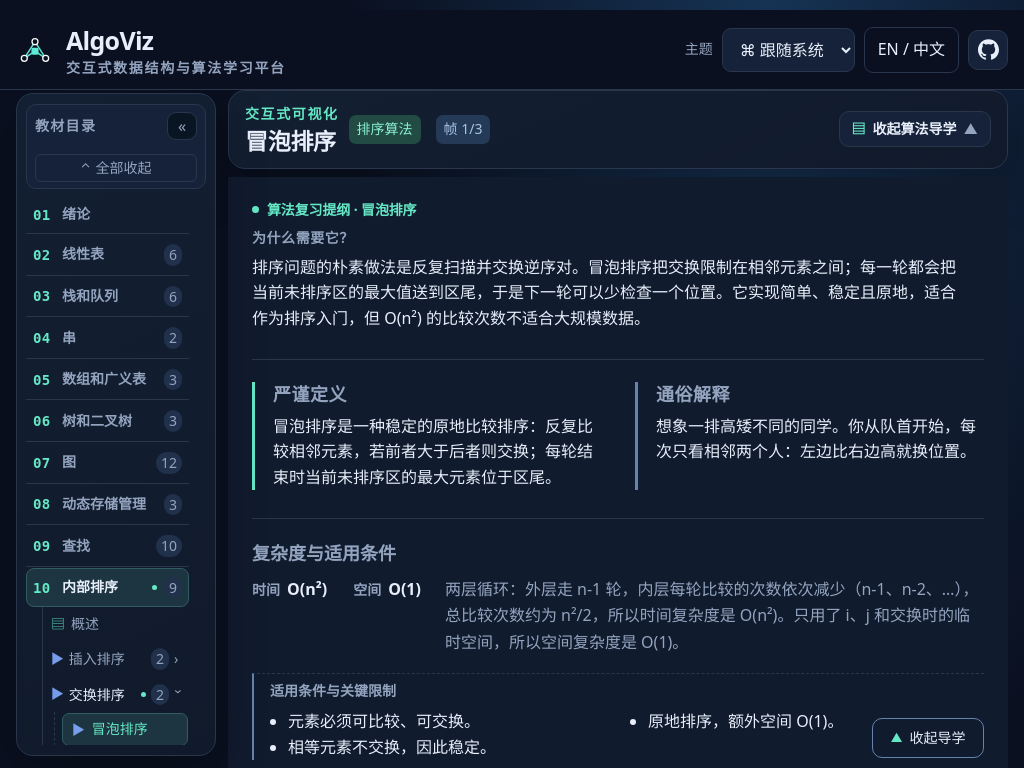
CORE-REFINE-01 shell integration › uses one state-aware control to collapse or expand the whole textbook directory
This screenshot has width=1024, height=768.
Click the button with test id "sidebar-toggle-all" at (116, 168), box 35,154 -> 197,182
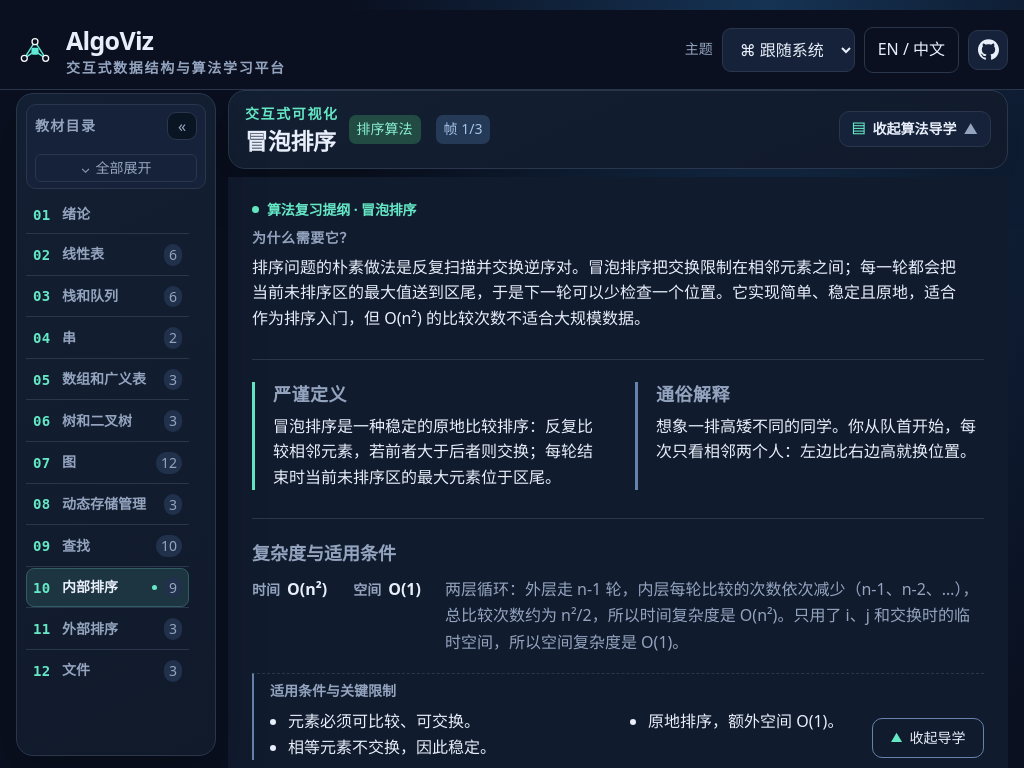
Expected: the button with test id "sidebar-toggle-all" shows "全部展开"
Click the button with test id "sidebar-toggle-all" at (116, 168), box 35,154 -> 197,182
(page scrolled)
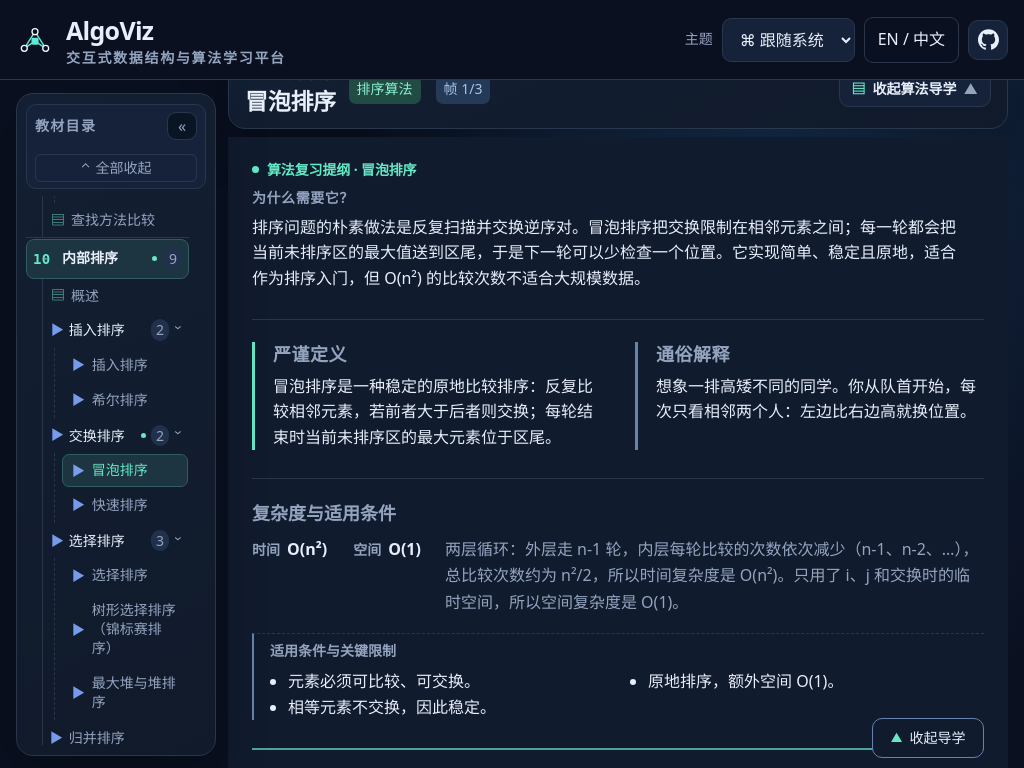
Expected: the button with test id "sidebar-toggle-all" has attribute data-expanded="true", 35,154 -> 197,182
